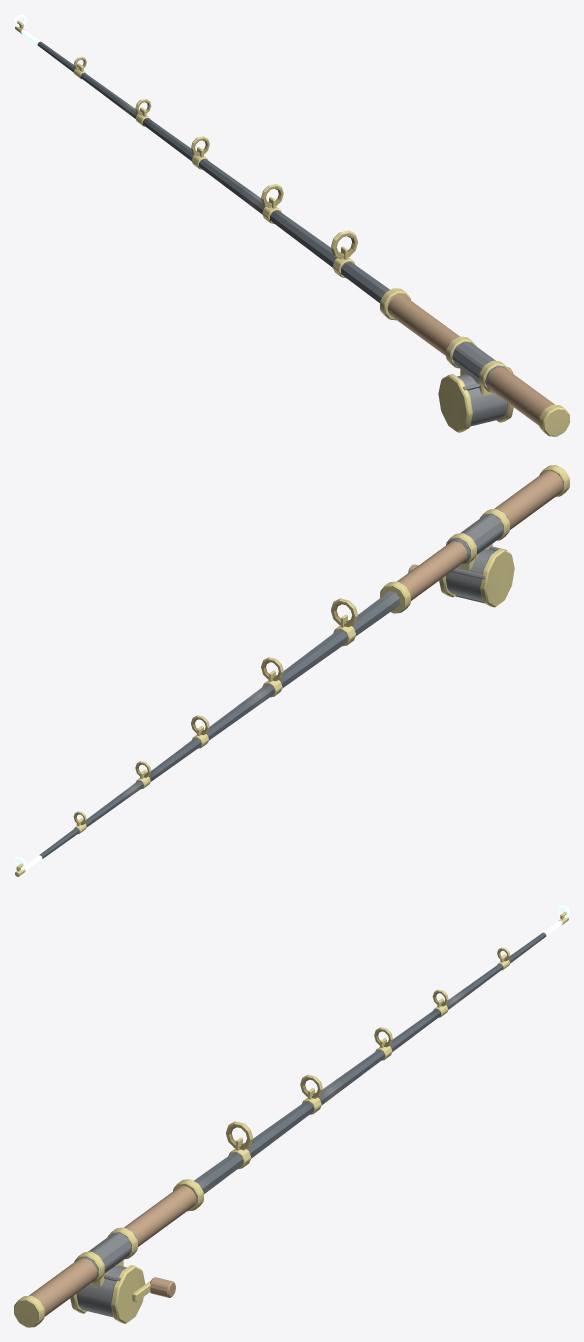
File: sea_fishing_rod.glb
3 renders of one model, top to bottom at view 1: azimuth 30°, elevation 25°; view 2: azimuth 150°, elevation 25°; view 3: azimuth 330°, elevation 25°, orthographic.
Parts seen in each view (by area): view 1: RodBaseGrip, RodMidLower, RodMidUpper, RodTip; view 2: RodBaseGrip, RodMidLower, RodMidUpper, RodTip; view 3: RodBaseGrip, RodMidLower, RodMidUpper, RodTip, ReelCrankHandle.
Part boxes in pixels (<box>): RodBaseGrip: <box>380,288,569,436</box>; RodMidLower: <box>252,183,389,302</box>; RodMidUpper: <box>128,98,258,206</box>; RodTip: <box>14,14,132,112</box>; RodBaseGrip: <box>380,465,569,613</box>; RodMidLower: <box>255,591,399,702</box>; RodMidUpper: <box>130,692,262,793</box>; RodTip: <box>14,787,134,876</box>; RodBaseGrip: <box>14,1179,203,1327</box>; RodMidLower: <box>194,1074,331,1193</box>; RodMidUpper: <box>325,989,455,1097</box>; RodTip: <box>451,905,569,1003</box>; ReelCrankHandle: <box>132,1277,175,1302</box>.
Bounding box in the file's own units: 0.141 × 0.1785 × 1.8.
